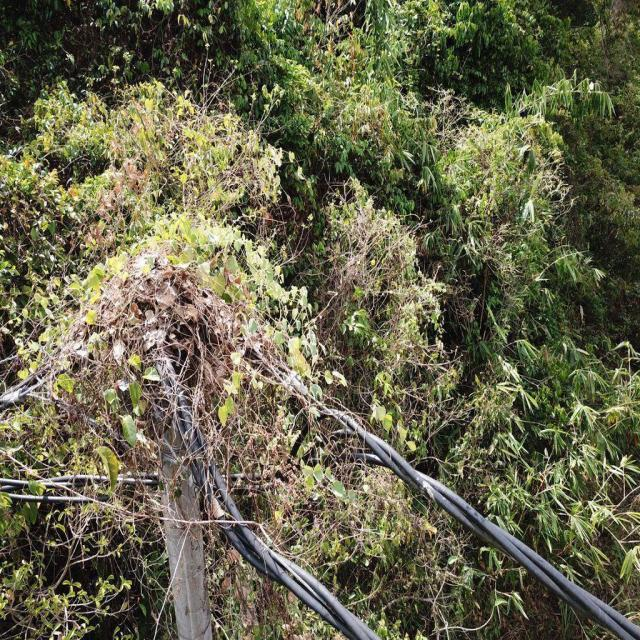critical vegetation: (20, 206, 338, 575)
